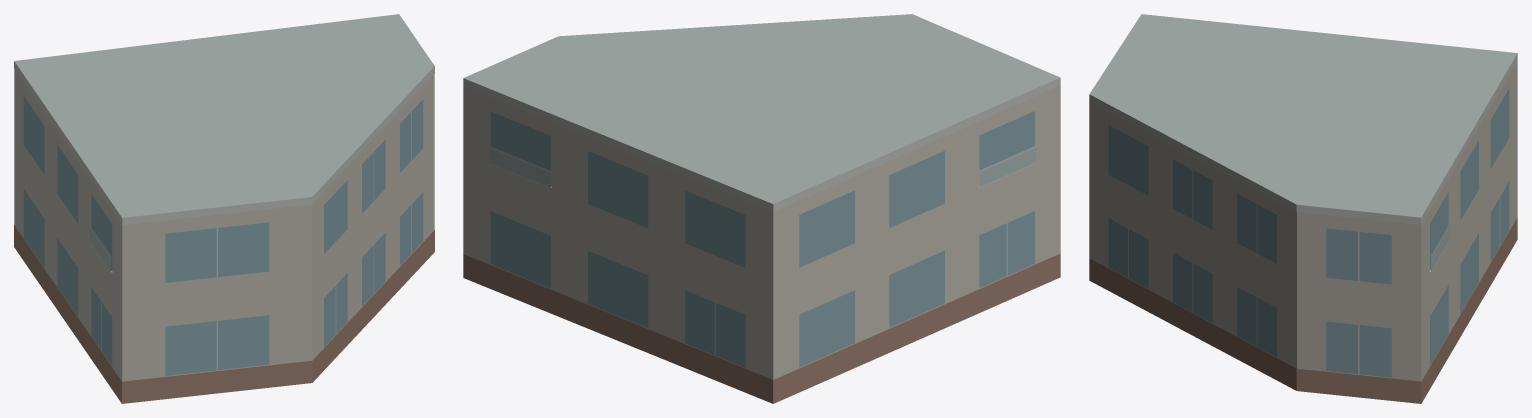
File: survey-upis-32831582.glb
3 views of the same model, side by side, from view 1: azimuth 30°, elevation 25°; view 2: azimuth 150°, elevation 25°; view 3: azimuth 270°, elevation 25° (orthographic). The views are drawn at different scales.
Visible parts, largest first — view 1: survey-upis-32831582.tmp; view 2: survey-upis-32831582.tmp; view 3: survey-upis-32831582.tmp.
Part boxes in pixels (box(x1,y1,x2,y2)): survey-upis-32831582.tmp: box(14, 14, 434, 403); survey-upis-32831582.tmp: box(463, 14, 1060, 403); survey-upis-32831582.tmp: box(1089, 14, 1517, 403).
Bounding box in the file's own units: 14.31 × 6.1 × 12.72.
